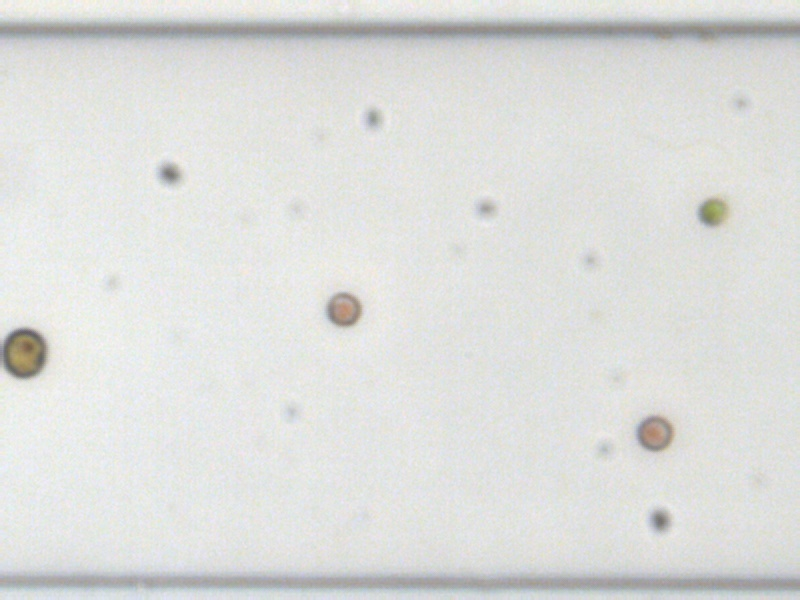Chlorella: (696, 195, 728, 226)
Effrenium: (0, 324, 49, 381)
Porphyridium: (633, 412, 674, 454), (323, 289, 362, 327)
